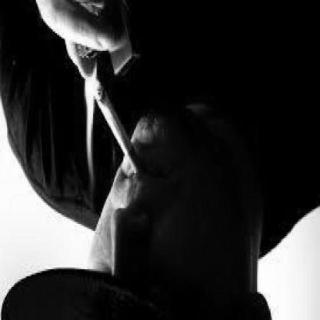Fire: (81, 67, 105, 184)
